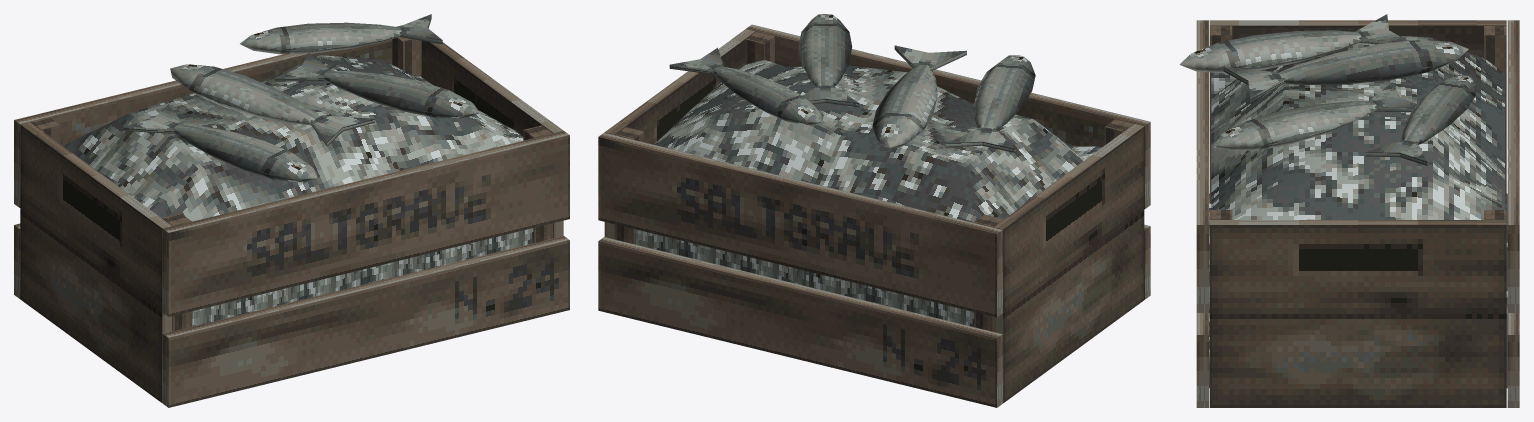
The model's file is fish_crate_full.glb.
The picture shows the model from 3 angles, left to right: view 1: azimuth 30°, elevation 25°; view 2: azimuth 150°, elevation 25°; view 3: azimuth 270°, elevation 25°; orthographic projection. The views are drawn at different scales.
Parts seen in each view (by area): view 1: fish_crate_full; view 2: fish_crate_full; view 3: fish_crate_full.
Part boxes in pixels (x1=…): fish_crate_full: x1=14, y1=14, x2=569, y2=407; fish_crate_full: x1=598, y1=14, x2=1150, y2=407; fish_crate_full: x1=1179, y1=14, x2=1519, y2=407.
Bounding box in the file's own units: 0.6 × 0.3284 × 0.4216.
Materials: 1 (1 with a texture image).
